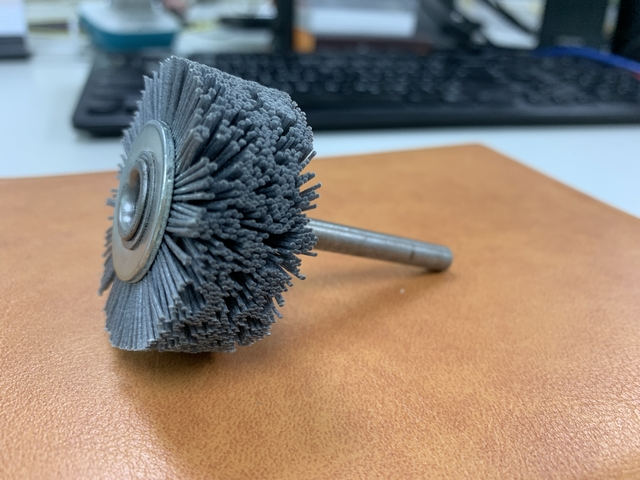Wheel Brush: (51, 44, 566, 376), (75, 46, 389, 367), (102, 64, 477, 311)
